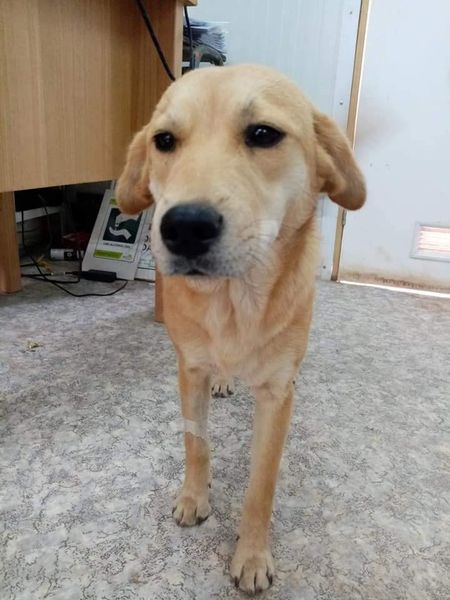dog: (99, 55, 395, 595)
